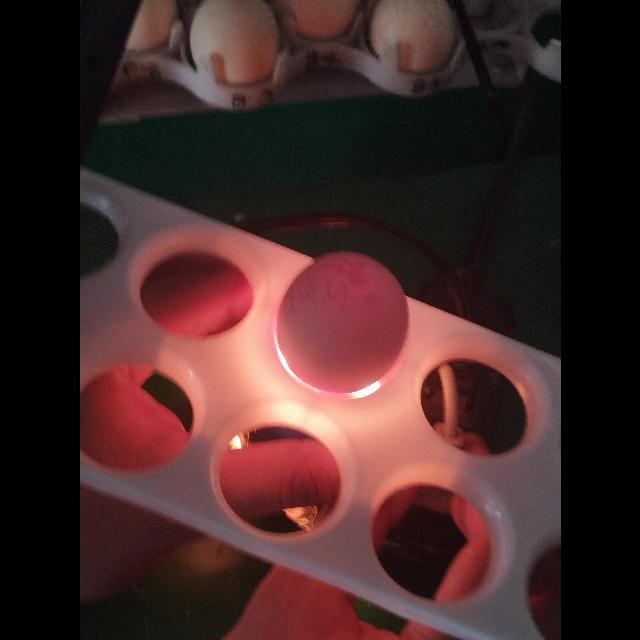Fertile: (271, 247, 411, 398)
